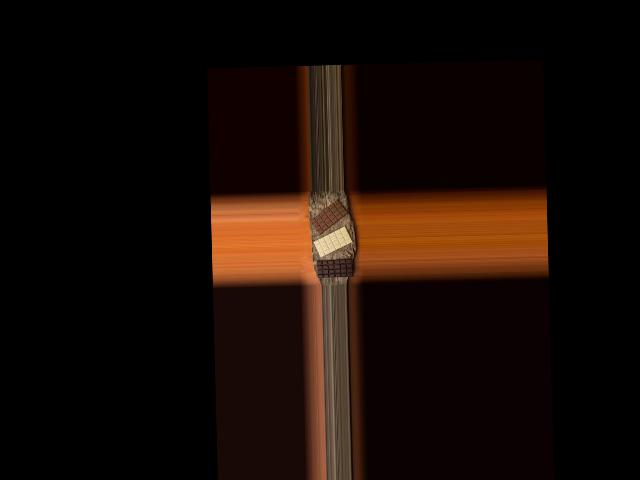chocolate: (316, 259, 354, 278)
